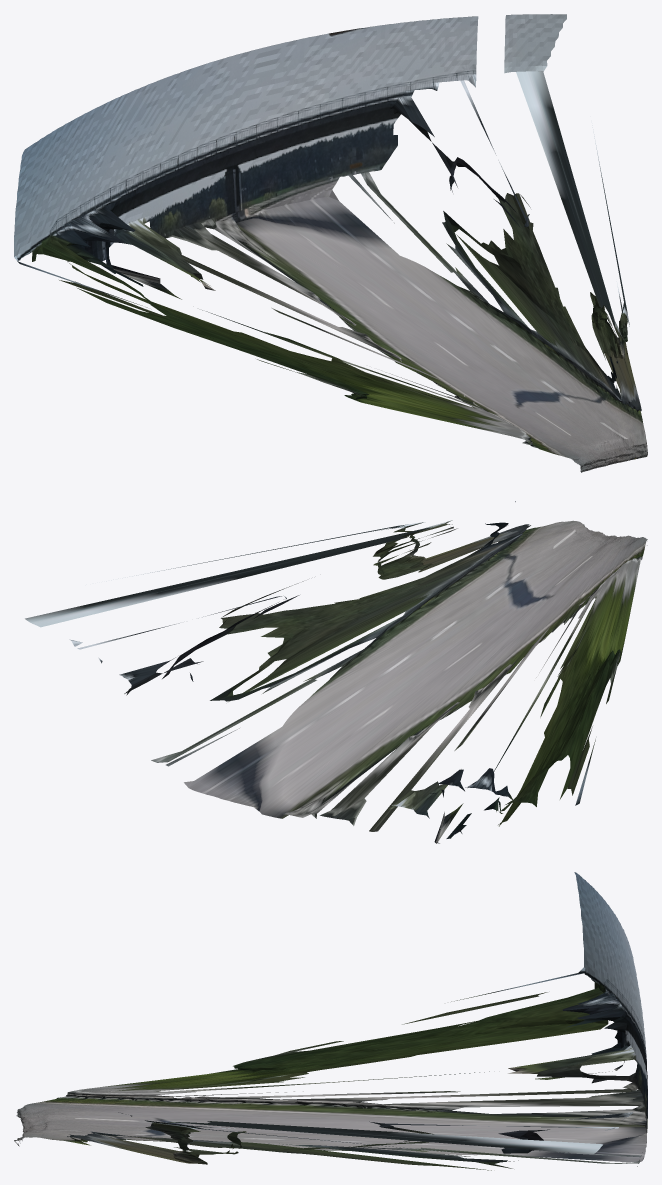
The picture shows the model from 3 angles, top to bottom: view 1: azimuth 30°, elevation 25°; view 2: azimuth 150°, elevation 25°; view 3: azimuth 270°, elevation 25°; orthographic projection. The views are drawn at different scales.
Visible parts, largest first — view 1: defaultobject; view 2: defaultobject; view 3: defaultobject.
Boxes of the visible parts, <box> form: defaultobject: <box>14,14,647,472</box>; defaultobject: <box>25,501,647,843</box>; defaultobject: <box>14,872,647,1170</box>.
Bounding box in the file's own units: 40.02 × 12.35 × 44.59.
Materials: 1 (1 with a texture image).
